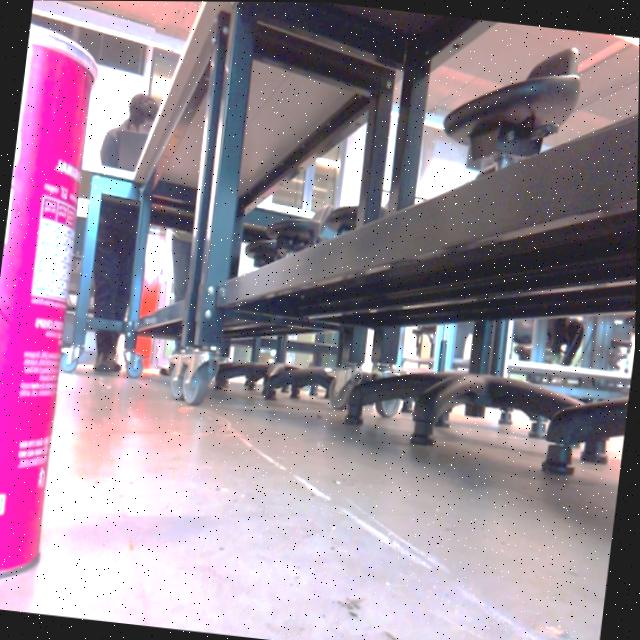redpringles: (0, 19, 124, 609)
